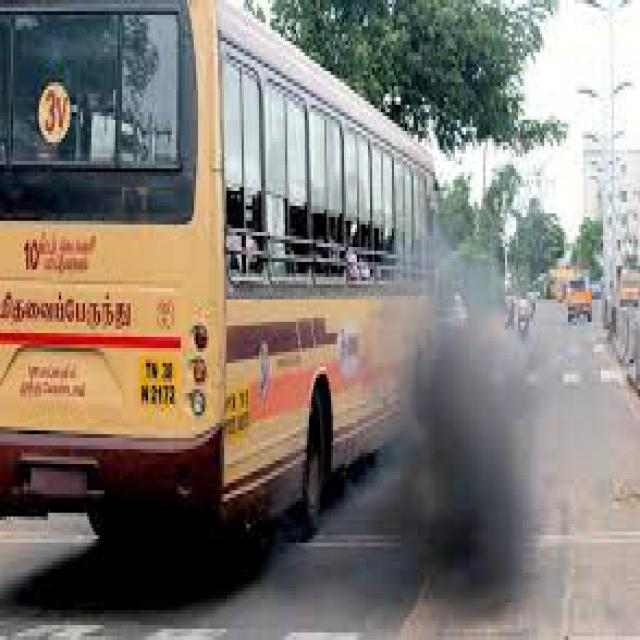smoke: (366, 262, 557, 621)
